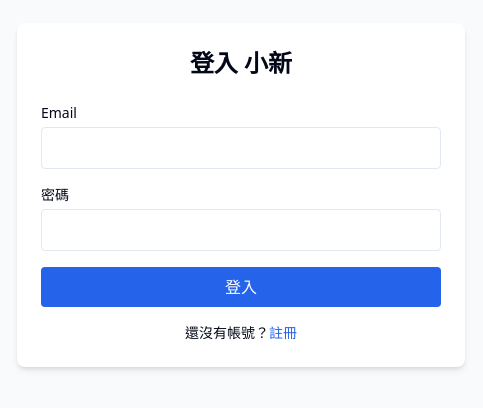
LoginPage › shows network error on exception
Type "a@b.com" into the field.
click(241, 148); type("a@b.com")  # box [41, 127, 441, 169]
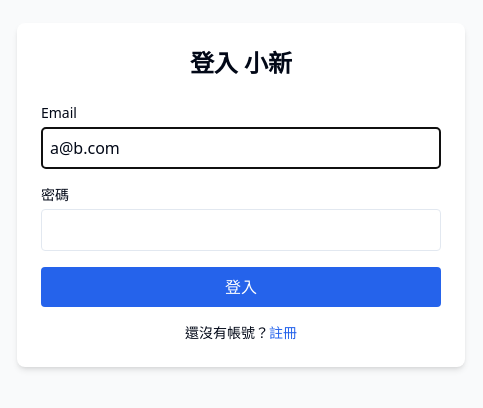
Type "pass" into the password field.
click(241, 230); type("pass")  # box [41, 209, 441, 251]
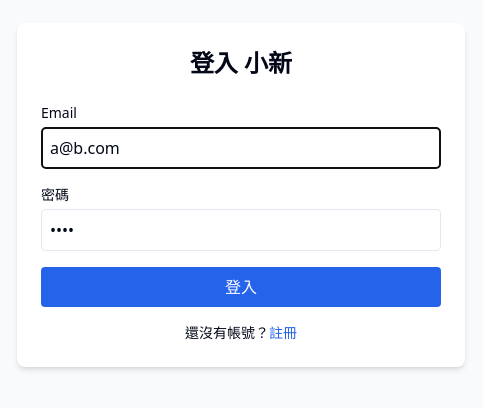
Submit the form with test id "login-form", box [41, 103, 441, 307]
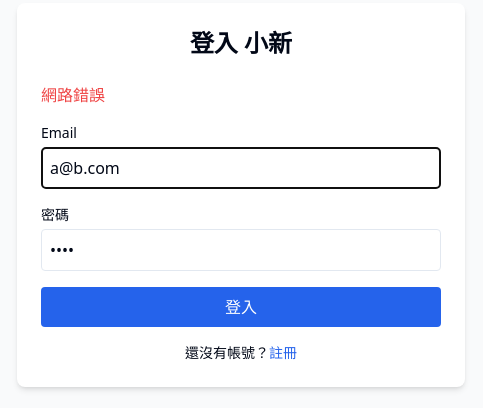
Now the text "網路錯誤" is shown, box [41, 84, 105, 106]
